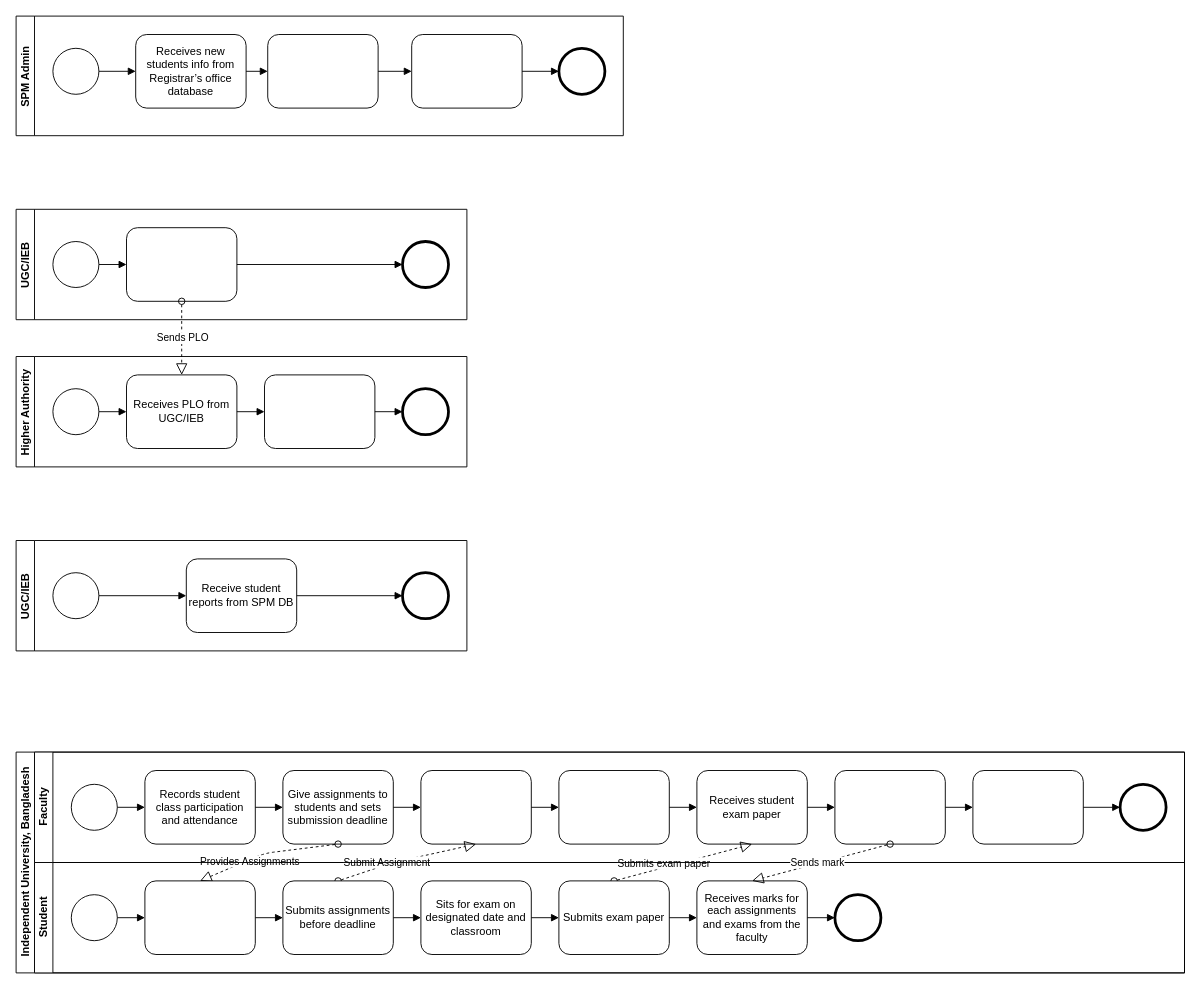
Some shapes in this 1201 by 989 pixel diagram are drawn without their labels. The shapes that lost their labels are listed below. From the top down, each one's centre as x and y in pixels, then its label:
the point at 322,71: Generate new students accounts from provided information
the point at 466,71: Store accounts in SPM DB
the point at 181,264: Sends PLO to Higher Authority
the point at 319,411: Stores PLO in SPM DB
the point at 475,807: Receives student assignments
the point at 613,807: Schedule exam date and classroom, notify students
the point at 889,807: Check assignments and exam paper and reward marks to students
the point at 1027,807: Submits all the marks to SPM
the point at 199,917: Solves Assignment Problems
